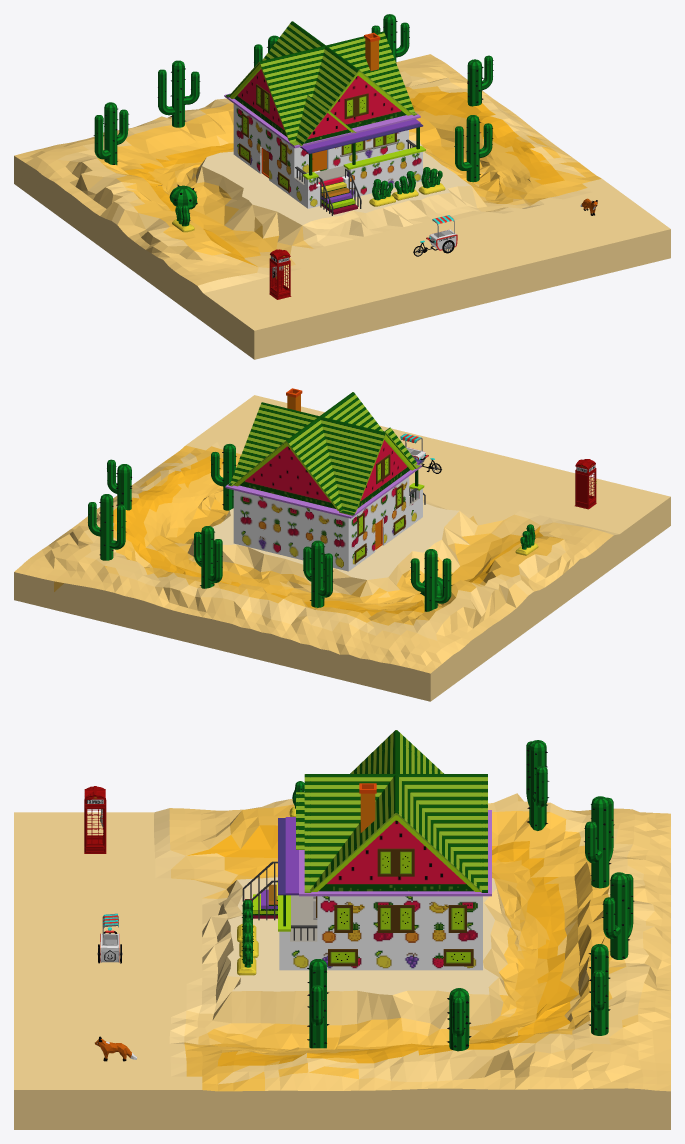
The picture shows the model from 3 angles, top to bottom: view 1: azimuth 30°, elevation 25°; view 2: azimuth 150°, elevation 25°; view 3: azimuth 270°, elevation 25°; orthographic projection. The views are drawn at different scales.
Parts seen in each view (by area): view 1: Cube.001, Cube.1063, Cylinder.037, Cylinder.044, Cylinder.045, OBJRANDOM_PHONEBOOTH, Cylinder.038, Cylinder.042, VEHICLES_SNOWBAL_BIKE, Cylinder.039, Cylinder.041, Sphere.023 (+1 smaller); view 2: Cube.001, Cube.1063, Cylinder.042, Cylinder.045, Cylinder.044, Cylinder.043, Cylinder.037, OBJRANDOM_PHONEBOOTH, Cylinder.038, VEHICLES_SNOWBAL_BIKE; view 3: Cube.001, Cube.1063, Cylinder.043, Cylinder.044, Cylinder.045, Cylinder.042, Cylinder.037, OBJRANDOM_PHONEBOOTH, Cylinder.038, VEHICLES_SNOWBAL_BIKE, Cylinder.041.
Boxes of the visible parts, x1=… form: Cube.001: x1=14, y1=54, x2=670, y2=359; Cube.1063: x1=224, y1=21, x2=425, y2=215; Cylinder.037: x1=454, y1=115, x2=493, y2=182; Cylinder.044: x1=157, y1=60, x2=200, y2=127; Cylinder.045: x1=93, y1=102, x2=129, y2=164; OBJRANDOM_PHONEBOOTH: x1=269, y1=249, x2=291, y2=299; Cylinder.038: x1=467, y1=55, x2=493, y2=106; Cylinder.042: x1=371, y1=14, x2=409, y2=62; VEHICLES_SNOWBAL_BIKE: x1=413, y1=215, x2=457, y2=256; Cylinder.039: x1=369, y1=179, x2=395, y2=206; Cylinder.041: x1=418, y1=167, x2=445, y2=194; Sphere.023: x1=169, y1=184, x2=197, y2=209; Cube.001: x1=14, y1=395, x2=670, y2=701; Cube.1063: x1=225, y1=388, x2=425, y2=571; Cylinder.042: x1=88, y1=494, x2=126, y2=560; Cylinder.045: x1=410, y1=549, x2=452, y2=611; Cylinder.044: x1=303, y1=540, x2=333, y2=607; Cylinder.043: x1=193, y1=526, x2=222, y2=588; Cylinder.037: x1=211, y1=444, x2=240, y2=510; OBJRANDOM_PHONEBOOTH: x1=575, y1=459, x2=596, y2=509; Cylinder.038: x1=107, y1=459, x2=131, y2=510; VEHICLES_SNOWBAL_BIKE: x1=400, y1=433, x2=441, y2=473; Cube.001: x1=14, y1=793, x2=670, y2=1129; Cube.1063: x1=242, y1=730, x2=491, y2=970; Cylinder.043: x1=602, y1=872, x2=634, y2=959; Cylinder.044: x1=584, y1=796, x2=614, y2=888; Cylinder.045: x1=526, y1=740, x2=549, y2=830; Cylinder.042: x1=588, y1=944, x2=610, y2=1035; Cylinder.037: x1=307, y1=959, x2=329, y2=1048; OBJRANDOM_PHONEBOOTH: x1=84, y1=786, x2=106, y2=853; Cylinder.038: x1=447, y1=988, x2=471, y2=1051; VEHICLES_SNOWBAL_BIKE: x1=97, y1=913, x2=122, y2=963; Cylinder.041: x1=237, y1=932, x2=256, y2=975.
Size of the model in its own units: 4002 by 1627 by 4001.
37 materials, 4 textured.
